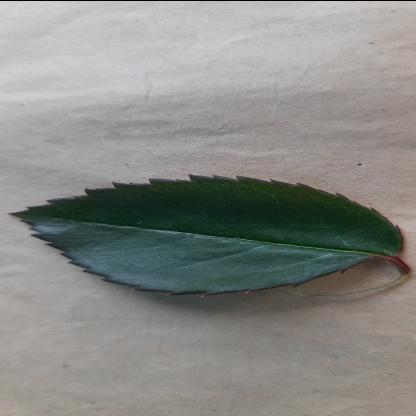normal: (9, 172, 399, 298)
